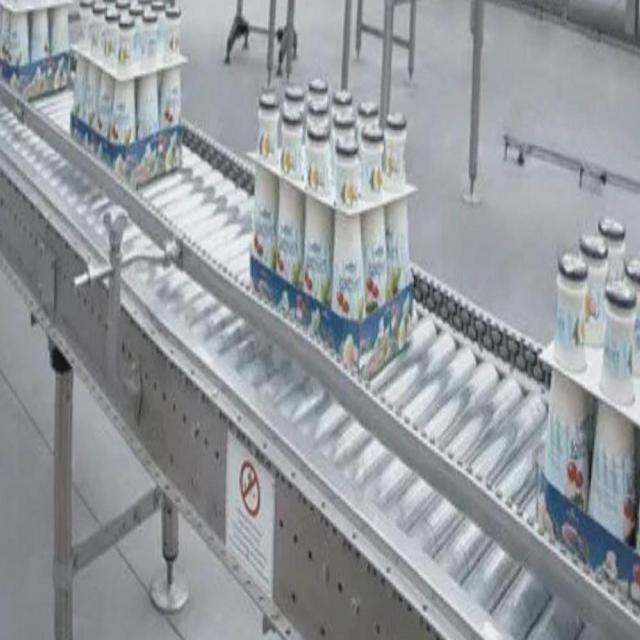bottle: (248, 75, 417, 379), (536, 197, 640, 581), (59, 0, 191, 186)
